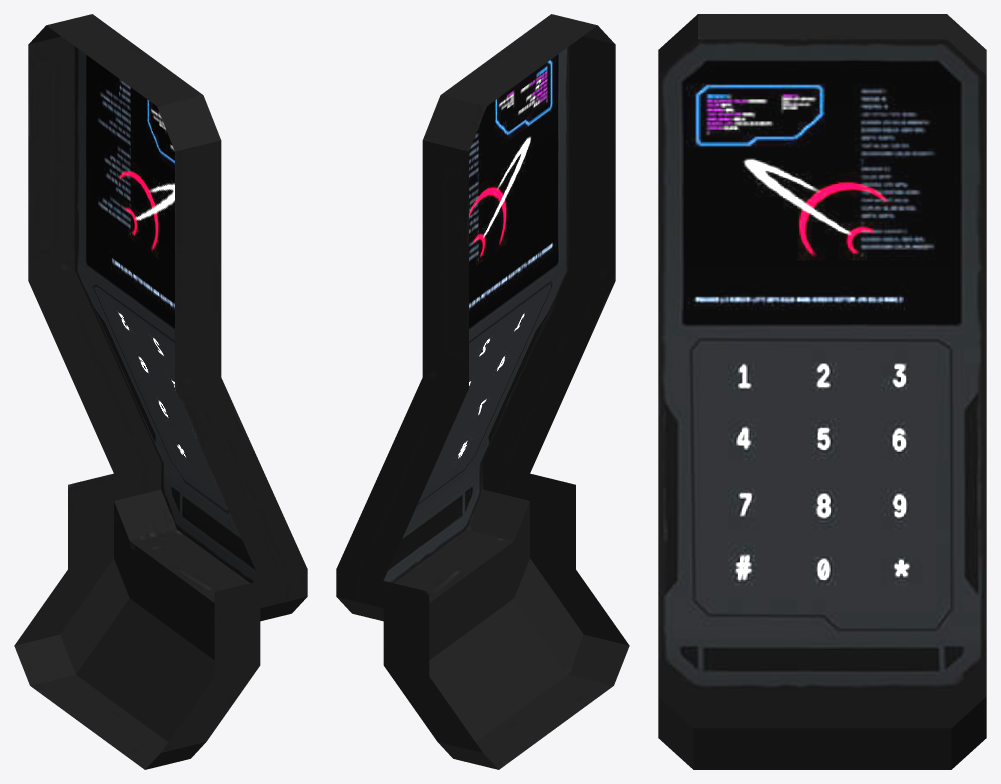
File: Mini_Terminal.glb
The picture shows the model from 3 angles, left to right: view 1: azimuth 30°, elevation 25°; view 2: azimuth 150°, elevation 25°; view 3: azimuth 270°, elevation 25°; orthographic projection. The views are drawn at different scales.
Visible parts, largest first — view 1: Mini_Terminal_Low; view 2: Mini_Terminal_Low; view 3: Mini_Terminal_Low.
Part boxes in pixels (bbox=[...]): Mini_Terminal_Low: bbox=[14, 14, 307, 769]; Mini_Terminal_Low: bbox=[336, 14, 629, 769]; Mini_Terminal_Low: bbox=[658, 14, 986, 769].
Size of the model in its own units: 0.0564 by 0.2415 by 0.0974.
1 material, 1 textured.
